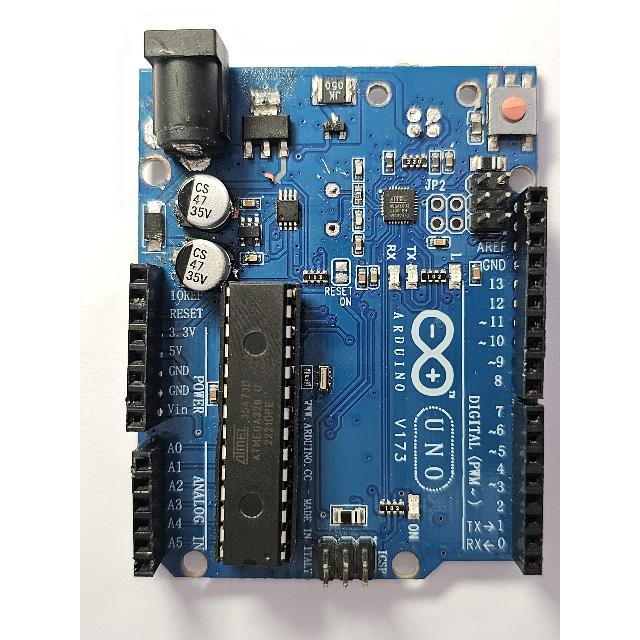missing_crystal_os: (311, 164, 351, 248)
missing_usb: (359, 73, 467, 144)
